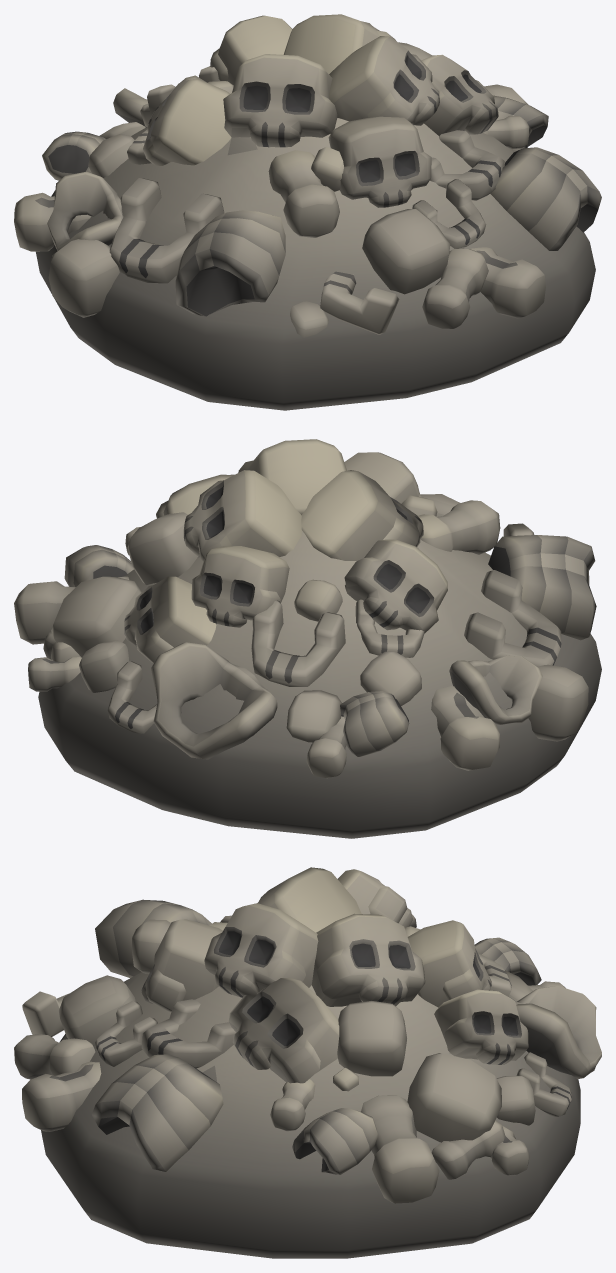
The model's file is skull_pile_large.fbx.
3 views of the same model, one above another, from view 1: azimuth 30°, elevation 25°; view 2: azimuth 150°, elevation 25°; view 3: azimuth 270°, elevation 25° (orthographic). The views are drawn at different scales.
Visible parts, largest first — view 1: skull_pile_large; view 2: skull_pile_large; view 3: skull_pile_large.
Boxes of the visible parts, box(x1,y1,x2,y2) form: skull_pile_large: box(14, 14, 601, 410); skull_pile_large: box(14, 439, 601, 838); skull_pile_large: box(14, 867, 601, 1258).
Size of the model in its own units: 321 by 154 by 312.
